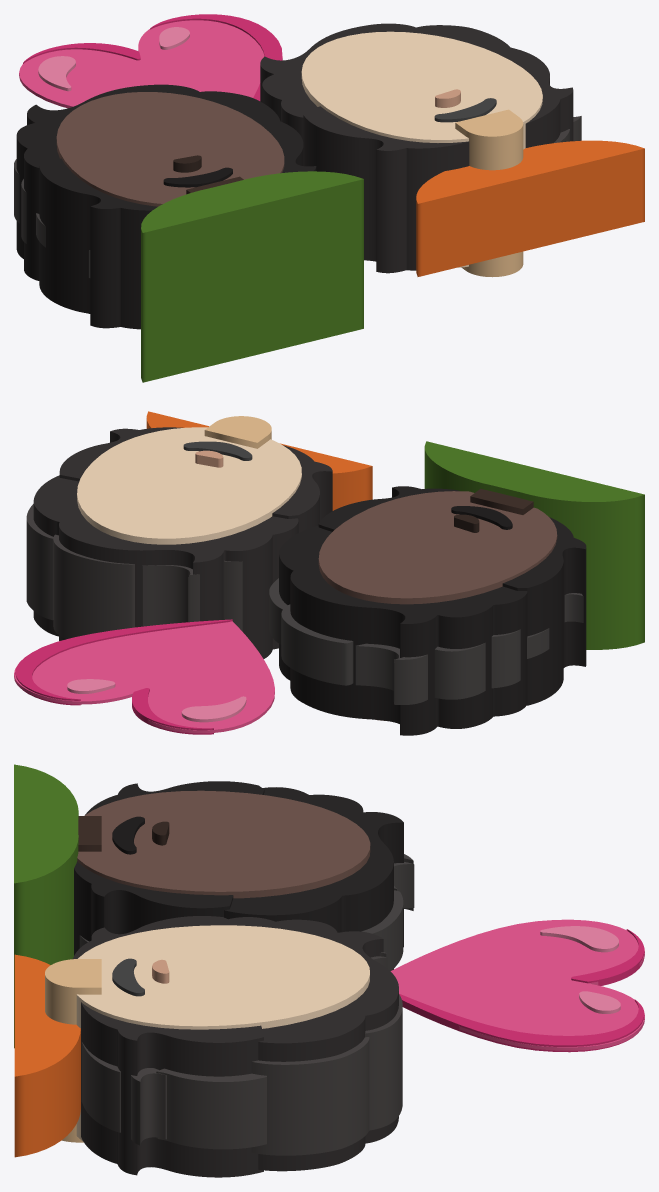
File: emoji_u1f9d1_1f3ff_200d_2764_200d_1f9d1_1f3fb.glb
The picture shows the model from 3 angles, top to bottom: view 1: azimuth 30°, elevation 25°; view 2: azimuth 150°, elevation 25°; view 3: azimuth 270°, elevation 25°; orthographic projection. The views are drawn at different scales.
Visible parts, largest first — view 1: emoji_u1f9d1_1f3ff_200d_2764_200d_1f9d1_1f3fb; view 2: emoji_u1f9d1_1f3ff_200d_2764_200d_1f9d1_1f3fb; view 3: emoji_u1f9d1_1f3ff_200d_2764_200d_1f9d1_1f3fb.
Boxes of the visible parts, left/top/right/bottom form: emoji_u1f9d1_1f3ff_200d_2764_200d_1f9d1_1f3fb: left=14, top=14, right=644, bottom=382; emoji_u1f9d1_1f3ff_200d_2764_200d_1f9d1_1f3fb: left=14, top=411, right=644, bottom=735; emoji_u1f9d1_1f3ff_200d_2764_200d_1f9d1_1f3fb: left=14, top=764, right=644, bottom=1177.
Bounding box in the file's own units: 0.0345 × 0.0098 × 0.034.
